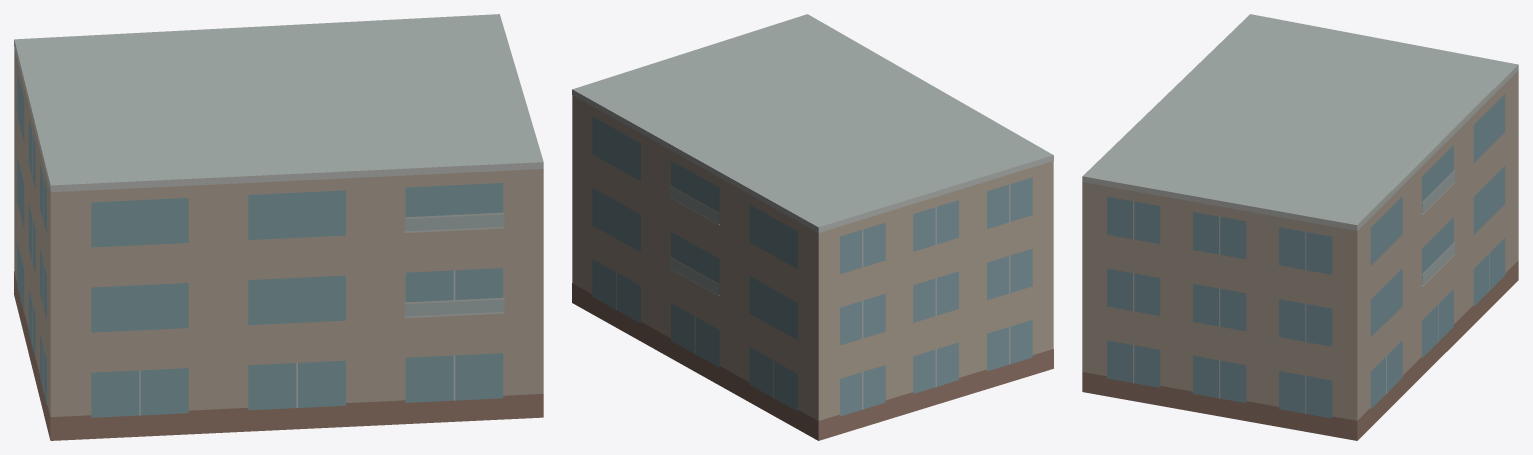
The model's file is survey-upis-32520800.glb.
3 views of the same model, side by side, from view 1: azimuth 30°, elevation 25°; view 2: azimuth 150°, elevation 25°; view 3: azimuth 270°, elevation 25° (orthographic). The views are drawn at different scales.
Visible parts, largest first — view 1: survey-upis-32520800.tmp; view 2: survey-upis-32520800.tmp; view 3: survey-upis-32520800.tmp.
Boxes of the visible parts, x1=… form: survey-upis-32520800.tmp: x1=14, y1=14, x2=543, y2=440; survey-upis-32520800.tmp: x1=572, y1=14, x2=1053, y2=440; survey-upis-32520800.tmp: x1=1082, y1=14, x2=1518, y2=440.
Bounding box in the file's own units: 19.23 × 9.15 × 16.78.
